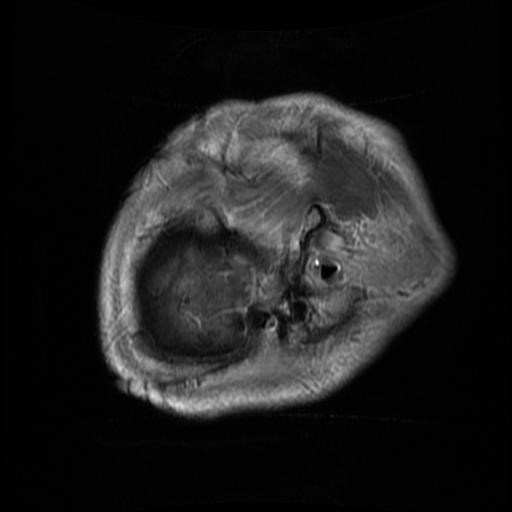glioma: (222, 263, 249, 307)
